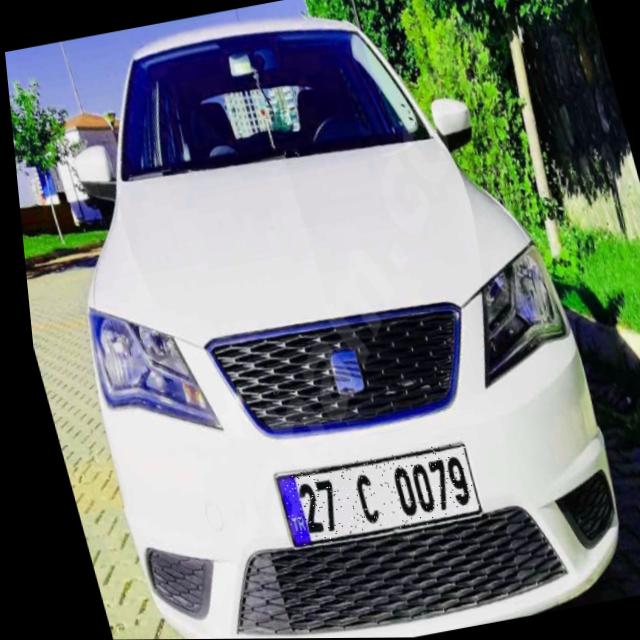license_plate: (263, 441, 475, 549)
